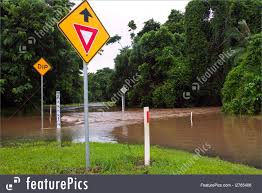dip: (32, 56, 53, 75)
yield: (71, 21, 99, 54)
